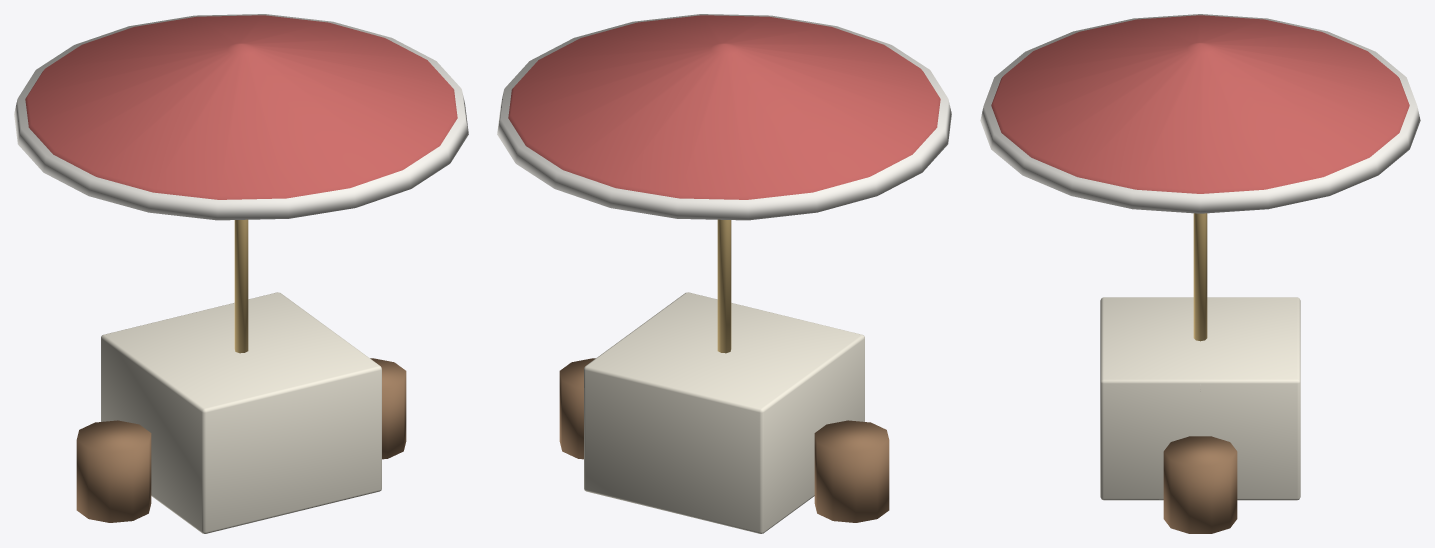
The model's file is tavolino.glb.
The picture shows the model from 3 angles, left to right: view 1: azimuth 30°, elevation 25°; view 2: azimuth 150°, elevation 25°; view 3: azimuth 270°, elevation 25°; orthographic projection. The views are drawn at different scales.
Visible parts, largest first — view 1: ombrellone, COL_tavolino, bordo_omb, sgabello_-1, sgabello_1, palo_omb; view 2: ombrellone, COL_tavolino, bordo_omb, sgabello_-1, sgabello_1, palo_omb; view 3: ombrellone, COL_tavolino, bordo_omb, sgabello_1, palo_omb.
Part boxes in pixels (bbox=[...]): ombrellone: bbox=[25, 15, 457, 199]; COL_tavolino: bbox=[101, 292, 381, 533]; bordo_omb: bbox=[14, 14, 468, 220]; sgabello_-1: bbox=[76, 420, 151, 522]; sgabello_1: bbox=[370, 358, 406, 459]; palo_omb: bbox=[234, 219, 248, 353]; ombrellone: bbox=[508, 15, 940, 199]; COL_tavolino: bbox=[584, 292, 864, 533]; bordo_omb: bbox=[497, 14, 951, 220]; sgabello_-1: bbox=[814, 420, 889, 522]; sgabello_1: bbox=[559, 358, 595, 459]; palo_omb: bbox=[717, 219, 731, 353]; ombrellone: bbox=[991, 15, 1409, 193]; COL_tavolino: bbox=[1100, 297, 1300, 500]; bordo_omb: bbox=[980, 14, 1420, 213]; sgabello_1: bbox=[1163, 436, 1237, 533]; palo_omb: bbox=[1193, 213, 1207, 341].
Size of the model in its own units: 2.64 by 2.75 by 2.64.
